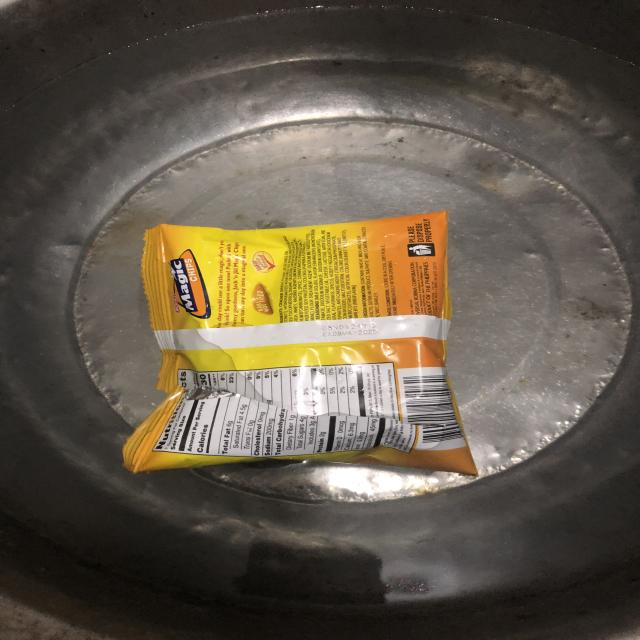Plastic Wrapper: (121, 218, 484, 483)
